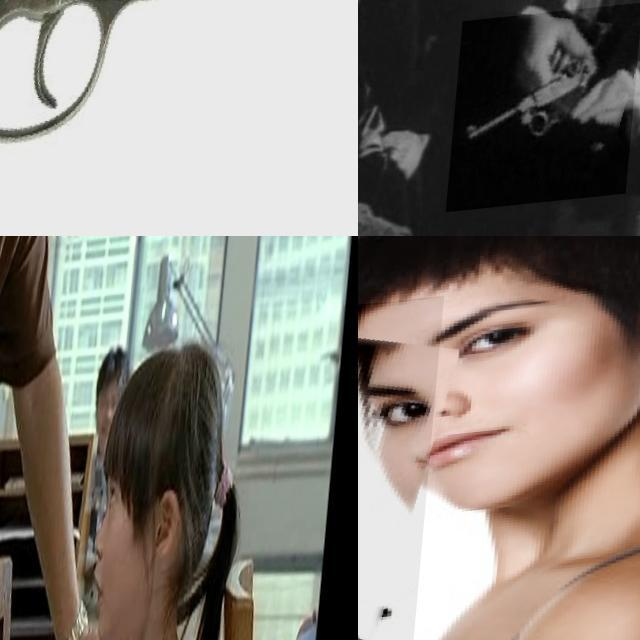gun-knife-thesis - v11 Yolov5 augmented: (0, 0, 358, 236), (358, 303, 533, 640), (456, 11, 640, 217), (0, 293, 54, 602)
